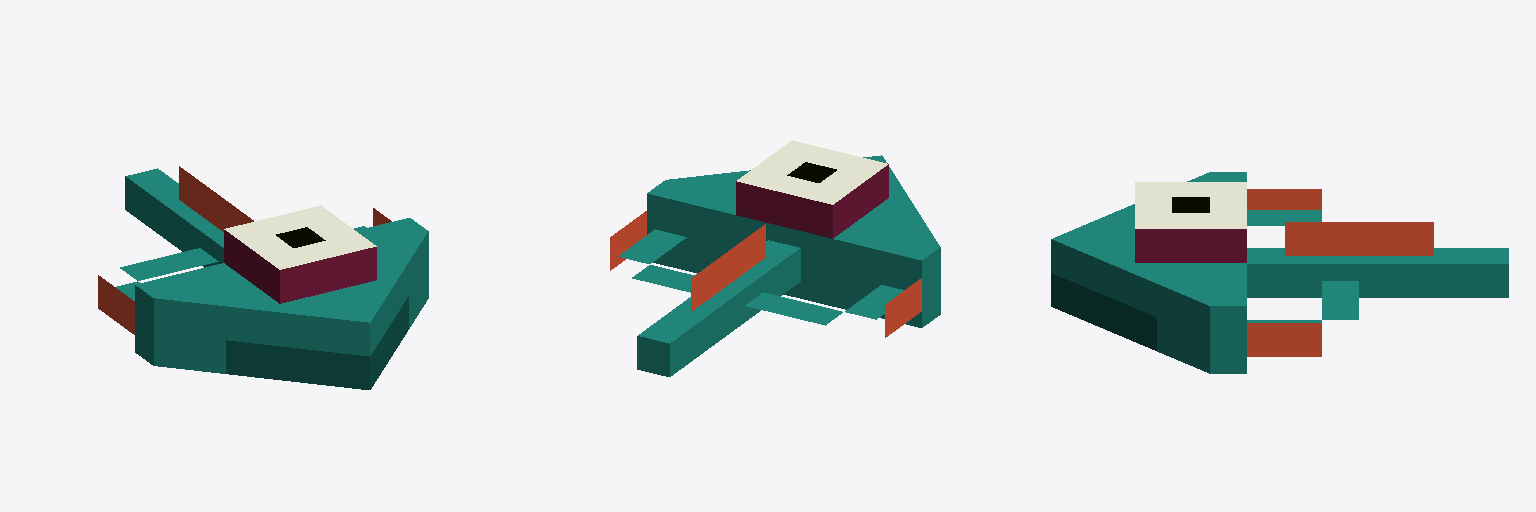
3 renders of one model, left to right at view 1: azimuth 30°, elevation 25°; view 2: azimuth 150°, elevation 25°; view 3: azimuth 270°, elevation 25°, orthographic.
Visible parts, largest first — view 1: cube; view 2: cube; view 3: cube.
Boxes of the visible parts, x1,y1,x2,y2 form: cube: [98, 166, 428, 389]; cube: [610, 140, 940, 376]; cube: [1051, 172, 1508, 373].
Size of the model in its own units: 0.5312 by 0.1875 by 0.7652.
Materials: 1 (1 with a texture image).